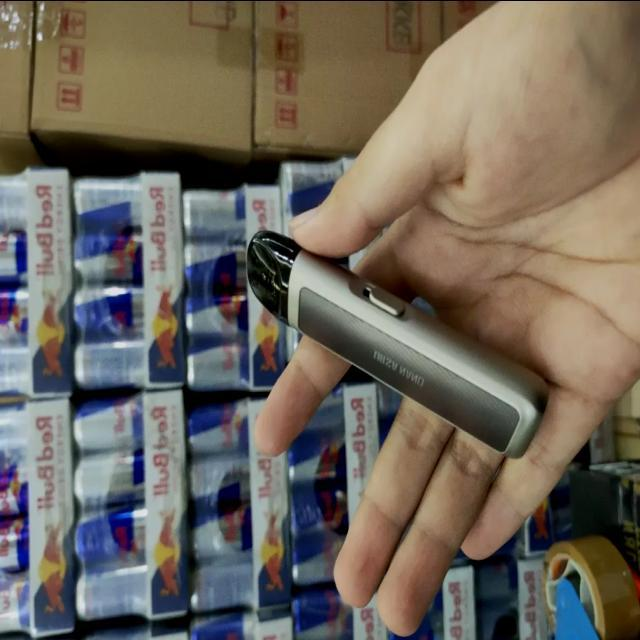Hazard: (242, 228, 552, 458)
